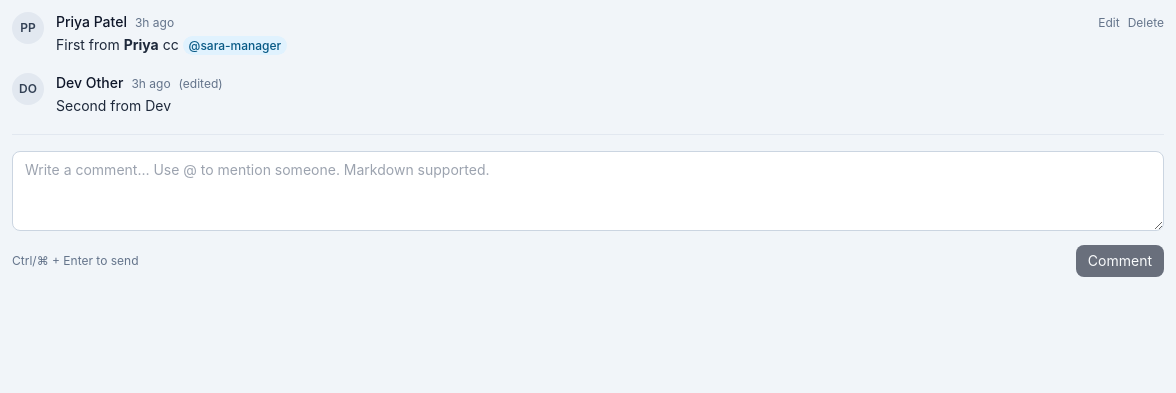
Test: CommentsTab permissions › edits inline with Save, updating only the comments query
Click the button "Edit": (1109, 23) [1098,15,1120,31]
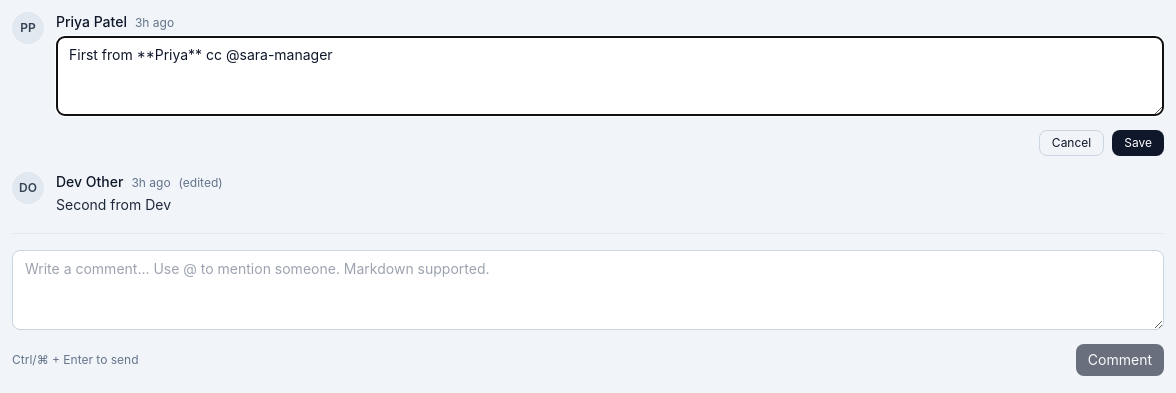
Replace the text in the text box named "Edit comment" with "Updated body": (610, 76) [56,36,1164,116]
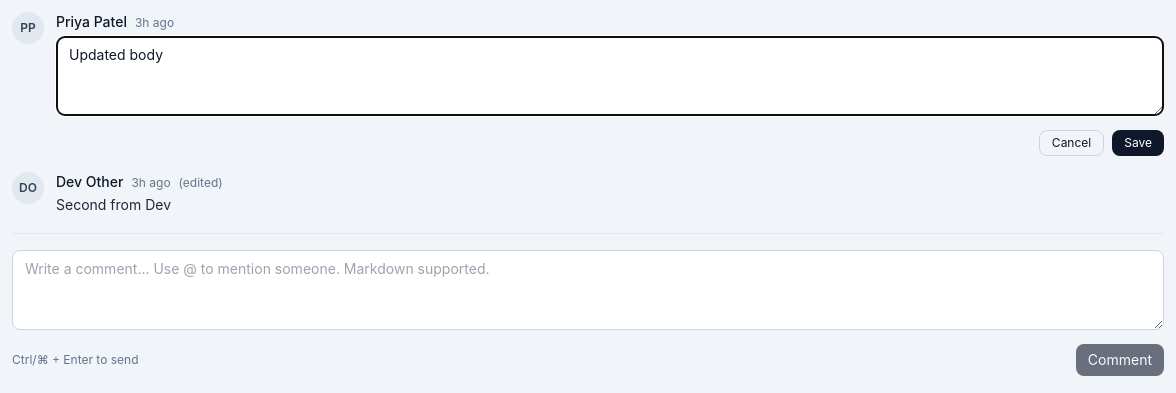
Click the button "Save": (1138, 143) [1112,130,1164,156]
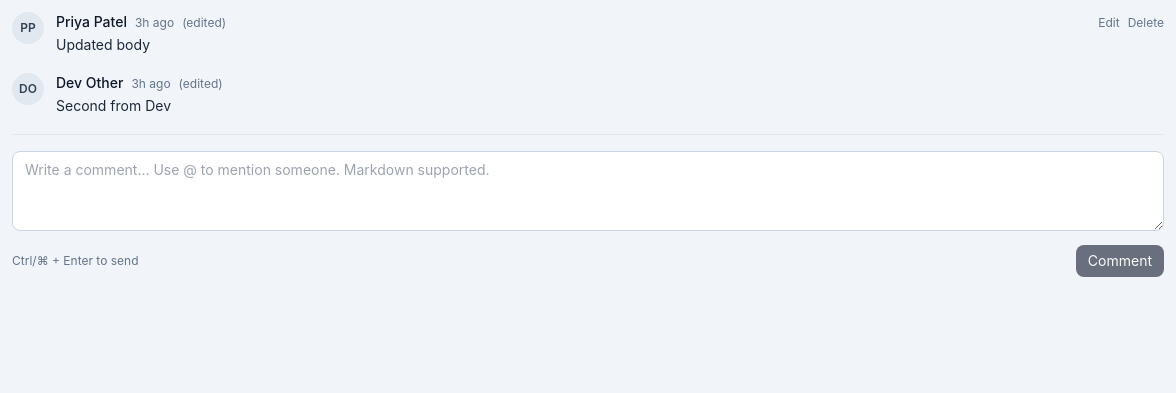
Now the list item with test id "comment" shows "Updated body", box [56,36,150,53]
Now the list item with test id "comment" shows "(edited)", box [182,15,226,30]
